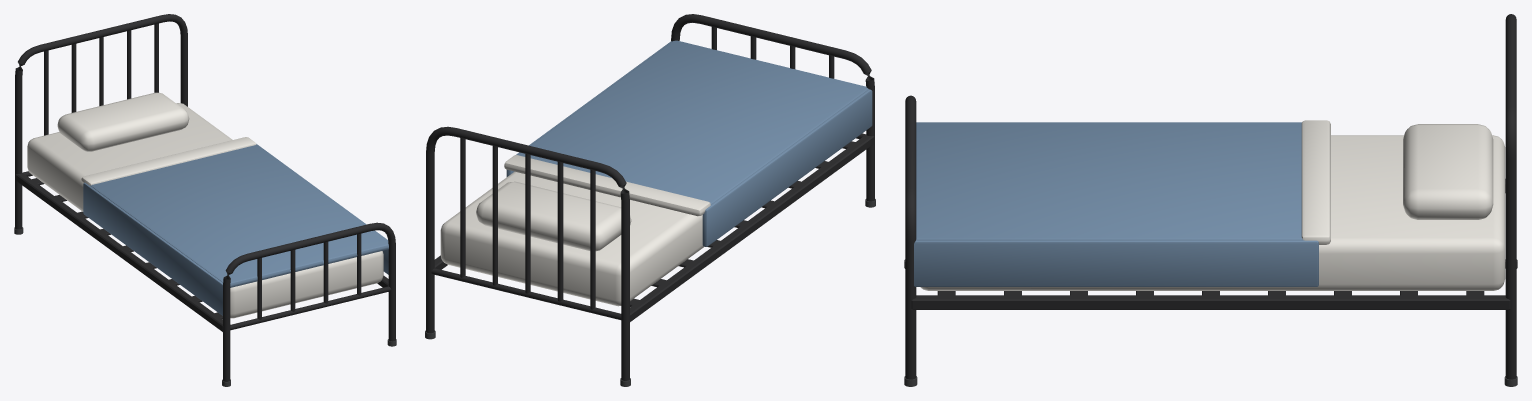
File: BedSingle.fbx
3 renders of one model, left to right at view 1: azimuth 30°, elevation 25°; view 2: azimuth 150°, elevation 25°; view 3: azimuth 270°, elevation 25°, orthographic. The views are drawn at different scales.
Visible parts, largest first — view 1: BedSingle_Mesh; view 2: BedSingle_Mesh; view 3: BedSingle_Mesh.
Part boxes in pixels (x1,y1,x2,y2): BedSingle_Mesh: [14, 14, 396, 386]; BedSingle_Mesh: [425, 14, 875, 386]; BedSingle_Mesh: [904, 14, 1517, 386].
Size of the model in its own units: 0.964 by 0.968 by 2.04.
